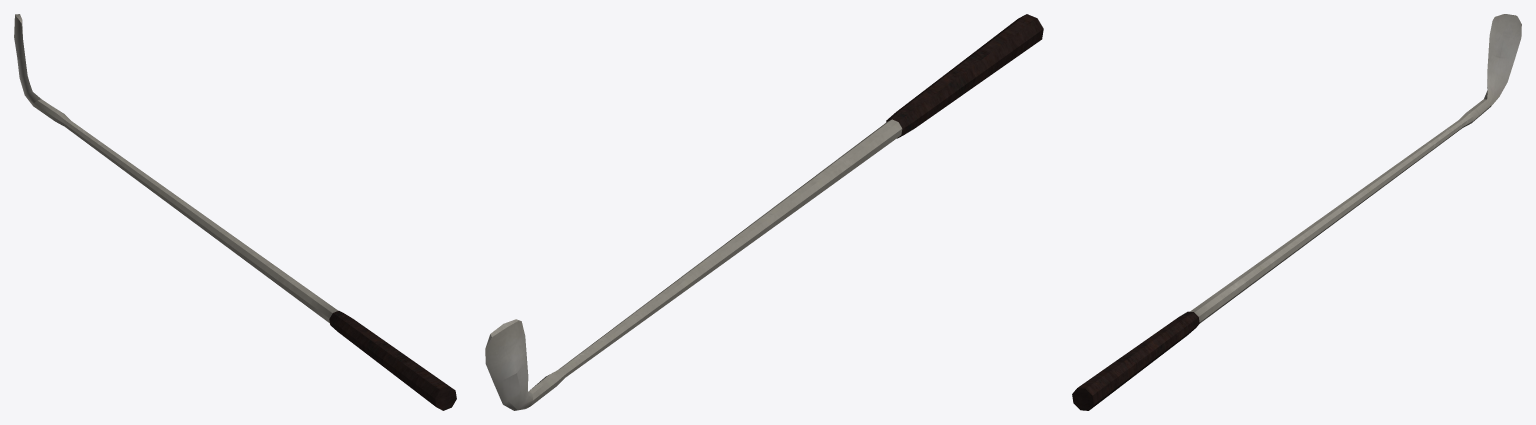
Rendered from golf_club.glb.
3 views of the same model, side by side, from view 1: azimuth 30°, elevation 25°; view 2: azimuth 150°, elevation 25°; view 3: azimuth 330°, elevation 25° (orthographic). The views are drawn at different scales.
Visible parts, largest first — view 1: defaultMaterial; view 2: defaultMaterial; view 3: defaultMaterial.
Boxes of the visible parts, x1,y1,x2,y2 form: defaultMaterial: (14,14,456,410); defaultMaterial: (485,14,1043,410); defaultMaterial: (1072,14,1521,410).
Size of the model in its own units: 0.0579 by 0.2175 by 2.
1 material, 1 textured.
